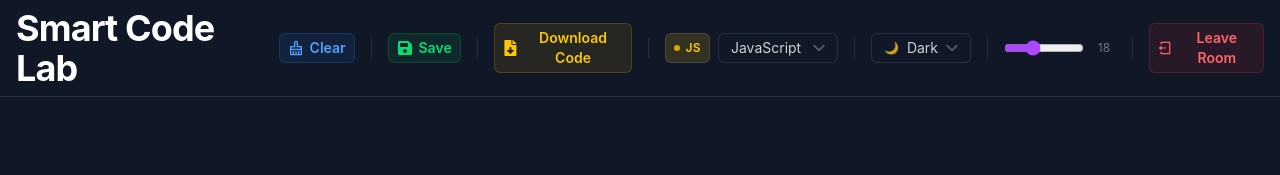
Scenario: Navbar — theme dropdown › opens theme dropdown when theme button is clicked
Click the button "🌙 Dark" at (921, 48), box [871, 33, 971, 63]
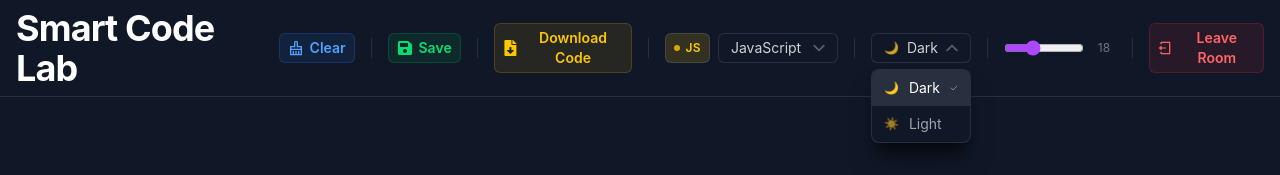
Expected: the text "Light" is shown, [909, 114, 942, 134]
